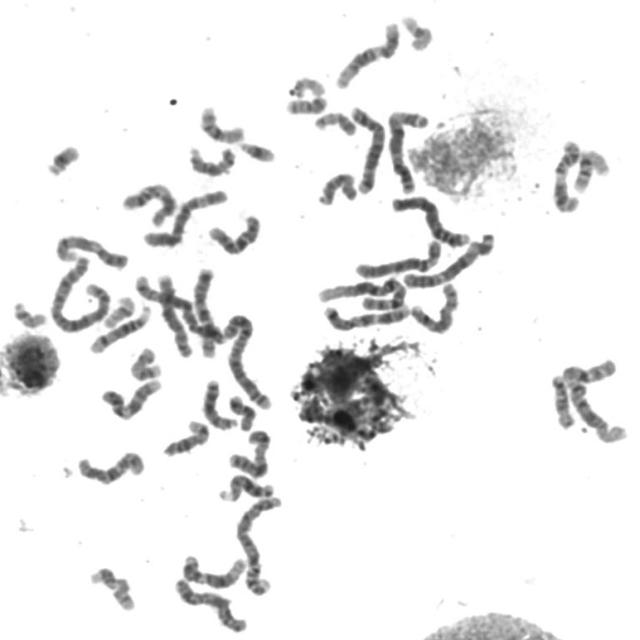A1: (558, 354, 631, 446), (314, 271, 409, 313)
A2: (219, 308, 274, 412), (46, 253, 114, 334)
A3: (399, 228, 498, 290), (382, 104, 431, 195)
B4: (232, 491, 286, 597), (388, 190, 473, 249)
B5: (131, 269, 225, 354), (346, 100, 388, 195)
C10: (73, 446, 148, 487), (204, 208, 264, 258)
C11: (115, 174, 180, 227), (549, 134, 584, 214)
C12: (332, 16, 403, 90), (178, 549, 250, 590)
C6: (140, 183, 230, 249), (352, 236, 444, 280)
C7: (188, 261, 219, 359), (320, 300, 412, 332)
C8: (152, 268, 195, 360), (407, 278, 462, 335)
C9: (51, 229, 131, 271), (97, 373, 164, 422)
D13: (199, 374, 240, 432), (215, 471, 280, 507)
D14: (85, 300, 154, 356), (158, 415, 212, 459)
D15: (179, 141, 236, 180), (313, 167, 360, 208)
E16: (196, 100, 248, 145), (570, 144, 614, 194)
E17: (86, 562, 138, 613), (126, 343, 164, 382)
E18: (546, 369, 578, 431), (225, 390, 258, 432)
F19: (397, 9, 437, 52), (98, 291, 136, 330)
F20: (310, 106, 359, 137), (282, 91, 330, 116)
G21: (41, 138, 83, 179), (234, 136, 278, 164)
G22: (8, 296, 49, 330), (286, 71, 327, 99)
X: (170, 574, 250, 635), (224, 424, 274, 479)
